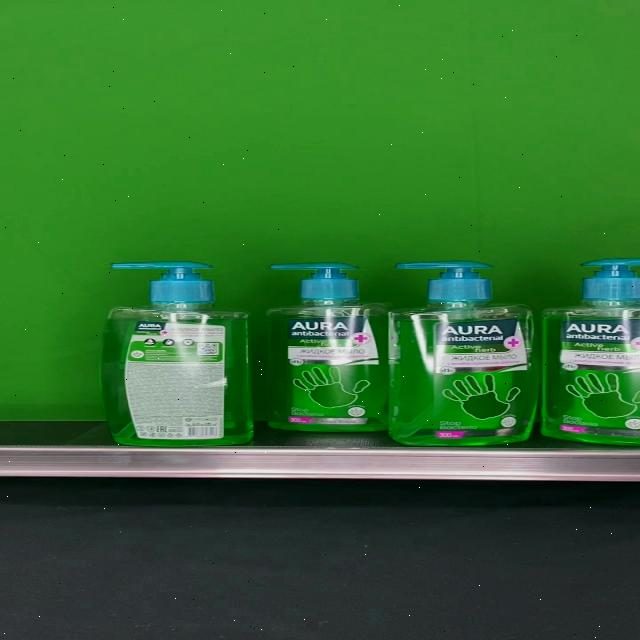Bottle: (101, 261, 255, 446), (388, 262, 540, 446), (265, 263, 395, 432)
Cap: (111, 261, 215, 301), (394, 262, 495, 302), (269, 262, 359, 298)
